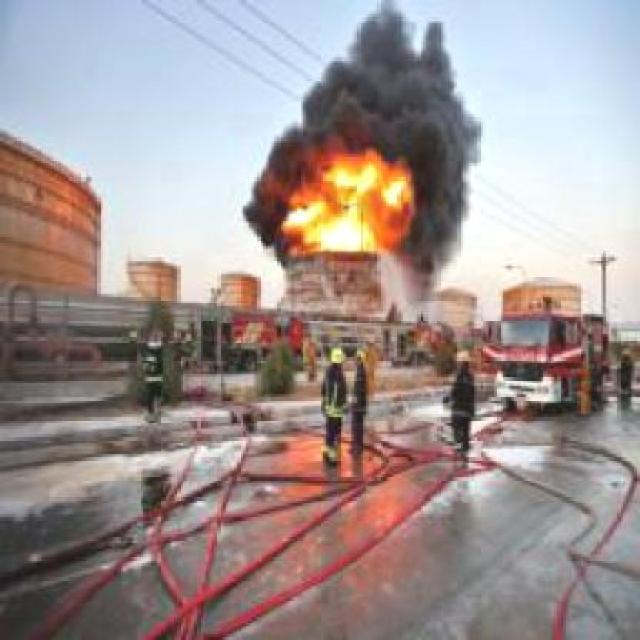Fire: (263, 143, 419, 259)
Smoke: (292, 5, 483, 144)
